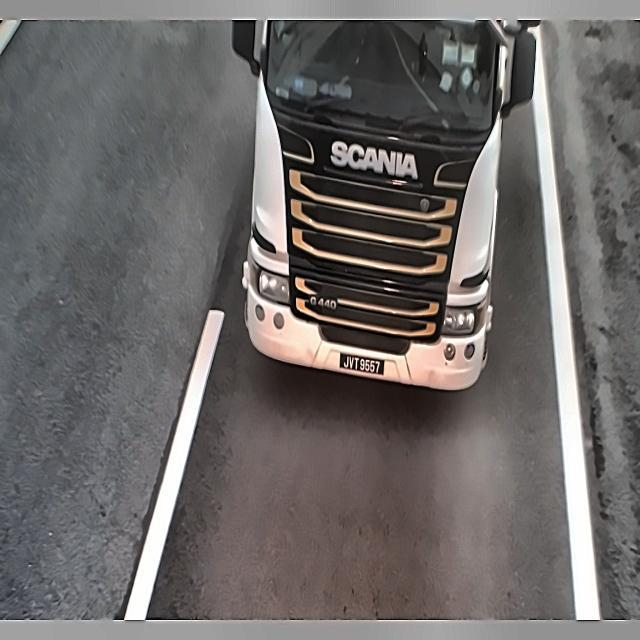car: (331, 349, 397, 383)
